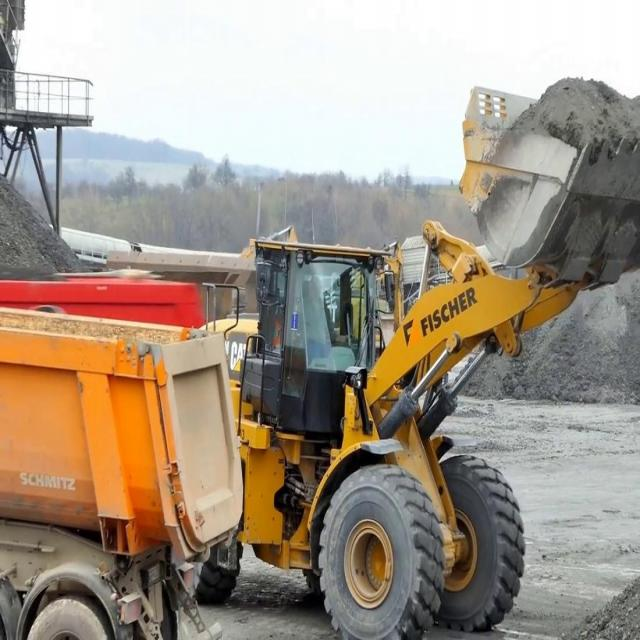Dump Truck: (2, 300, 245, 639)
Loader: (191, 74, 624, 639)
